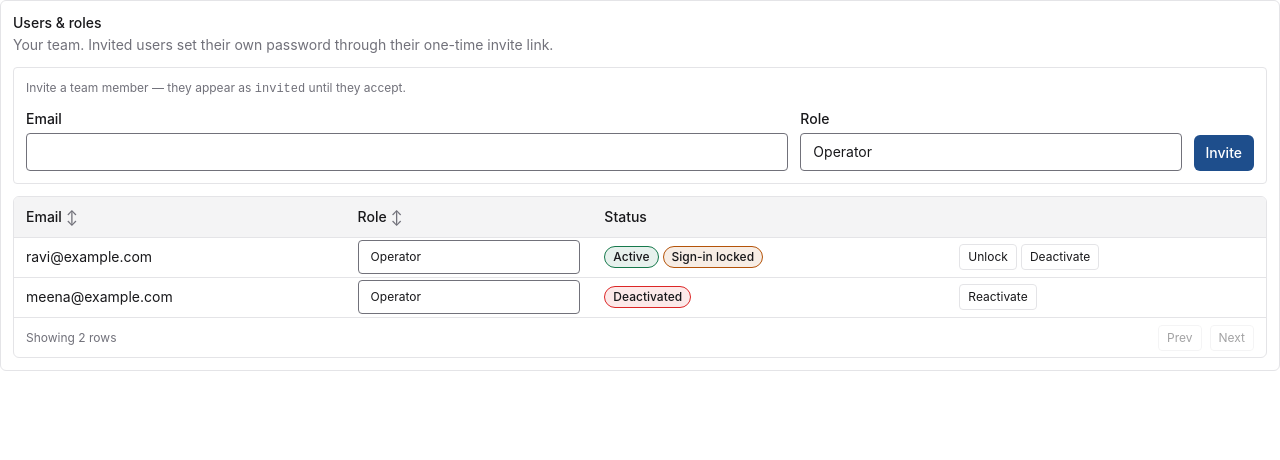
Team card — offboarding and unlock (story 6-1a) › Deactivate asks first, then sends one keyed POST; the banner names the user
The image size is (1280, 460).
Click the button "Deactivate" at (1060, 257), box 1021,244 -> 1099,270
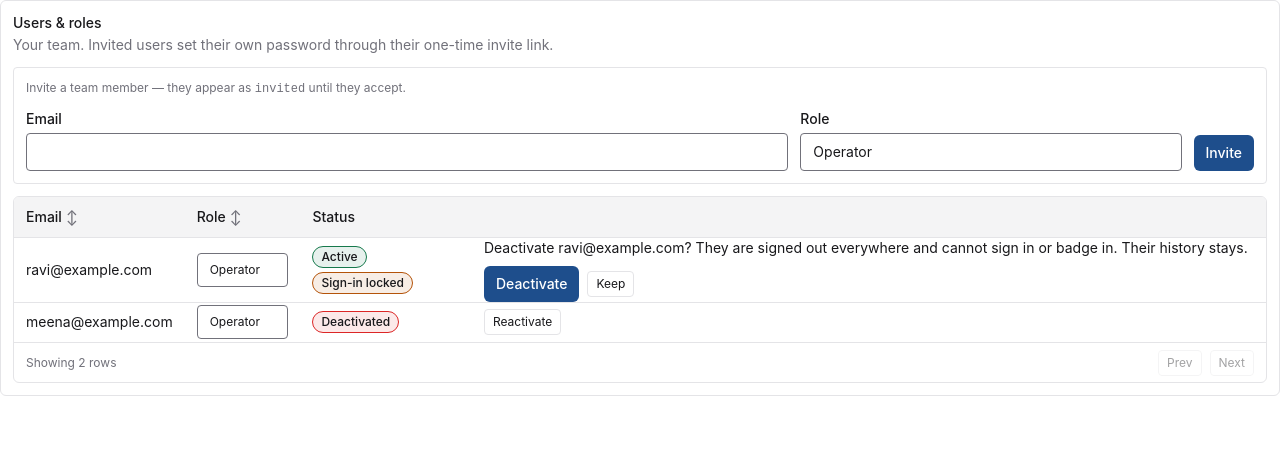
Result: the text "Deactivate ravi@example.com?" is shown at 484,238 -> 1248,256
Click the button "Deactivate" at (532, 284), box 484,266 -> 579,302
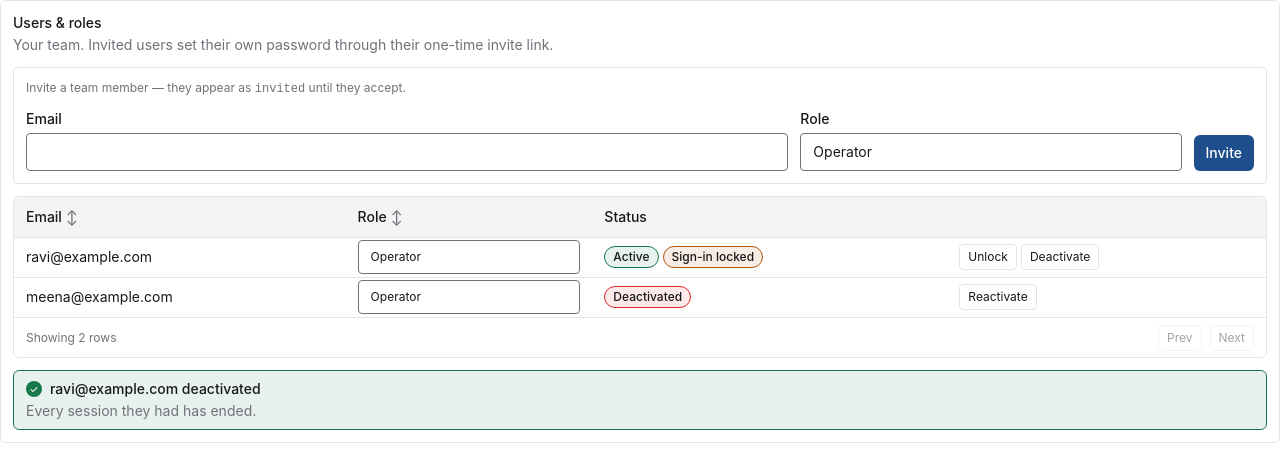
Result: the text "ravi@example.com deactivated" is shown at 50,380 -> 261,397
